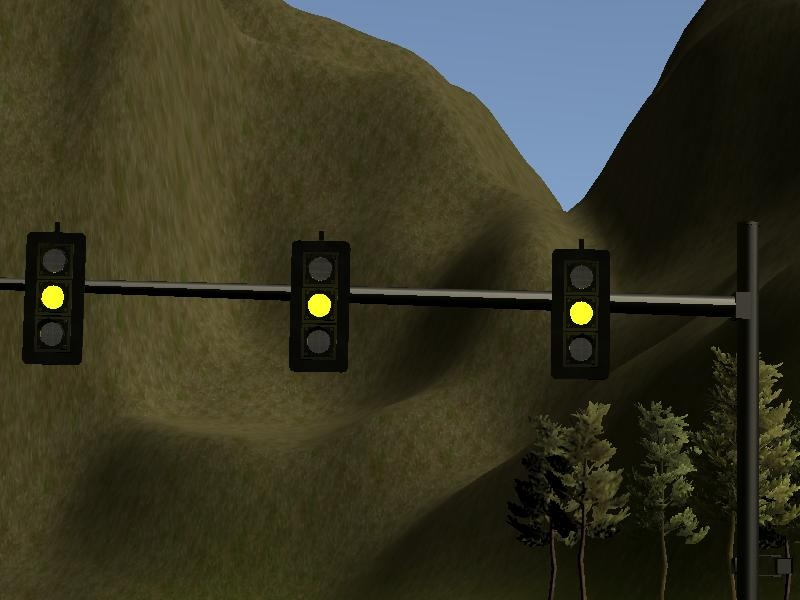YELLOW: (548, 246, 612, 381), (286, 238, 350, 373), (20, 229, 84, 364)
